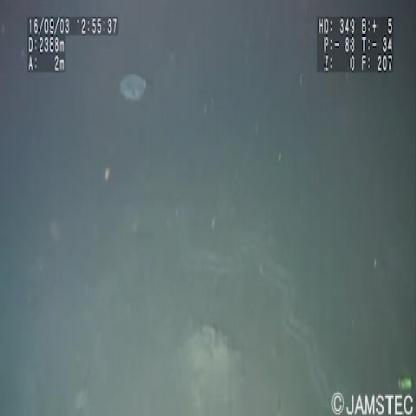Rác: (112, 57, 156, 111)
